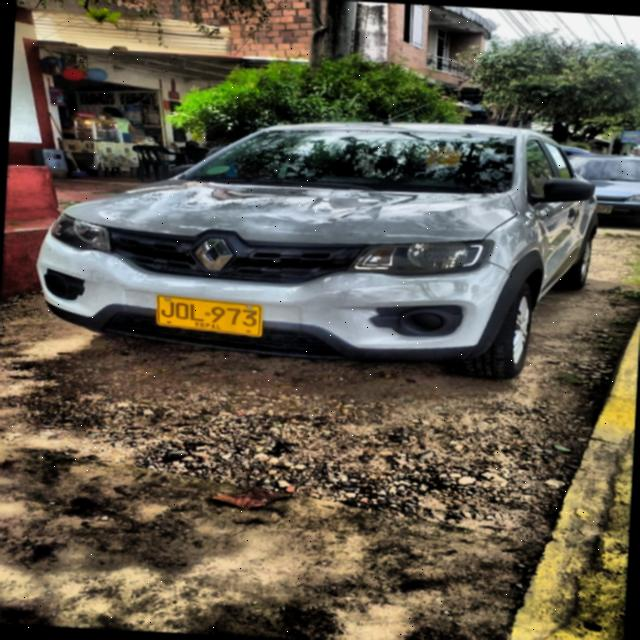plate: (158, 296, 261, 336)
